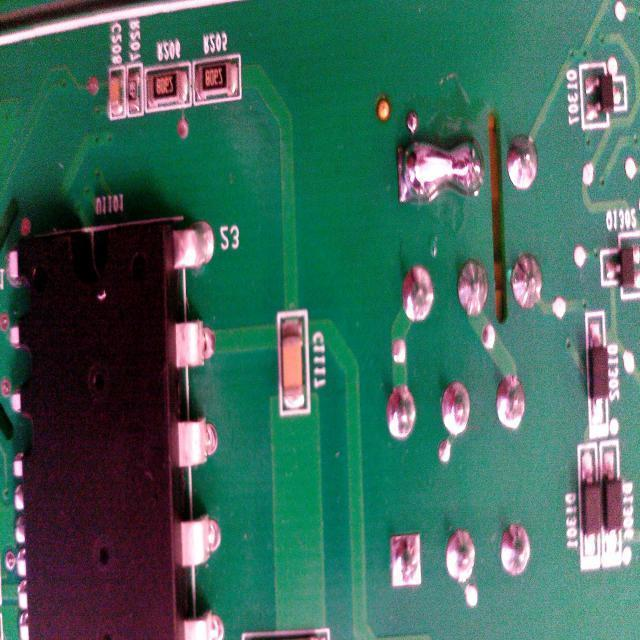Soldering shorted: (390, 113, 485, 225)
